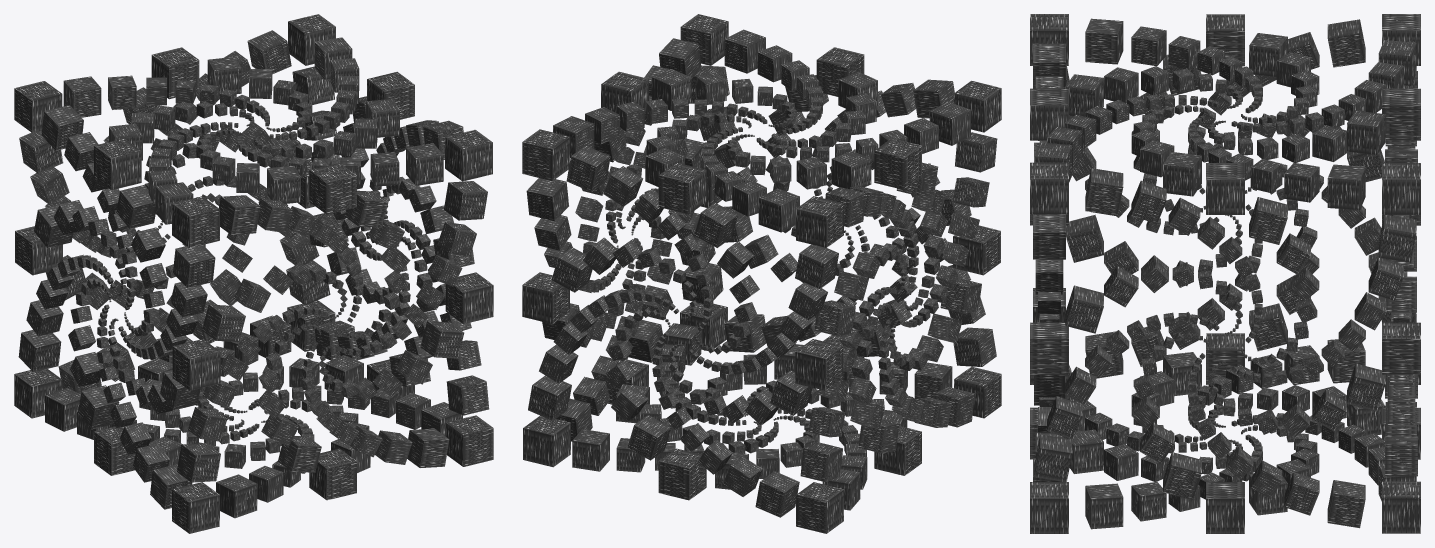
File: temporal_dilator.obj
The picture shows the model from 3 angles, left to right: view 1: azimuth 30°, elevation 25°; view 2: azimuth 150°, elevation 25°; view 3: azimuth 270°, elevation 25°; orthographic projection. The views are drawn at different scales.
Parts seen in each view (by area): view 1: Cube.004_Cube.013; view 2: Cube.004_Cube.013; view 3: Cube.004_Cube.013.
Part boxes in pixels (x1,y1,x2,y2): Cube.004_Cube.013: (14, 14, 493, 533); Cube.004_Cube.013: (522, 14, 1001, 533); Cube.004_Cube.013: (1030, 14, 1420, 533).
Bounding box in the file's own units: 1 × 1 × 1.
